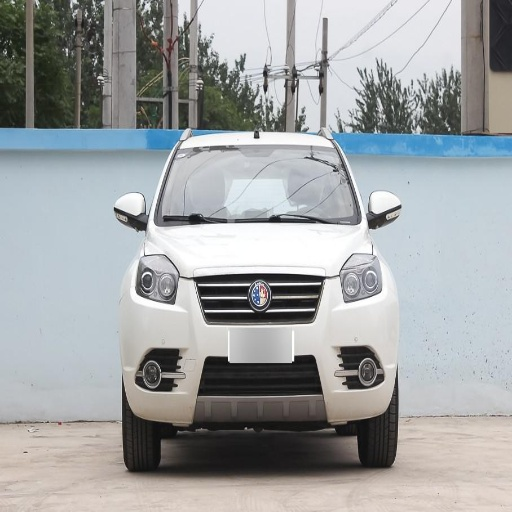front_bumper: (122, 270, 400, 431)
front_right_light: (136, 255, 179, 303)
hood: (148, 225, 371, 276)
left_mirror: (368, 190, 402, 228)
